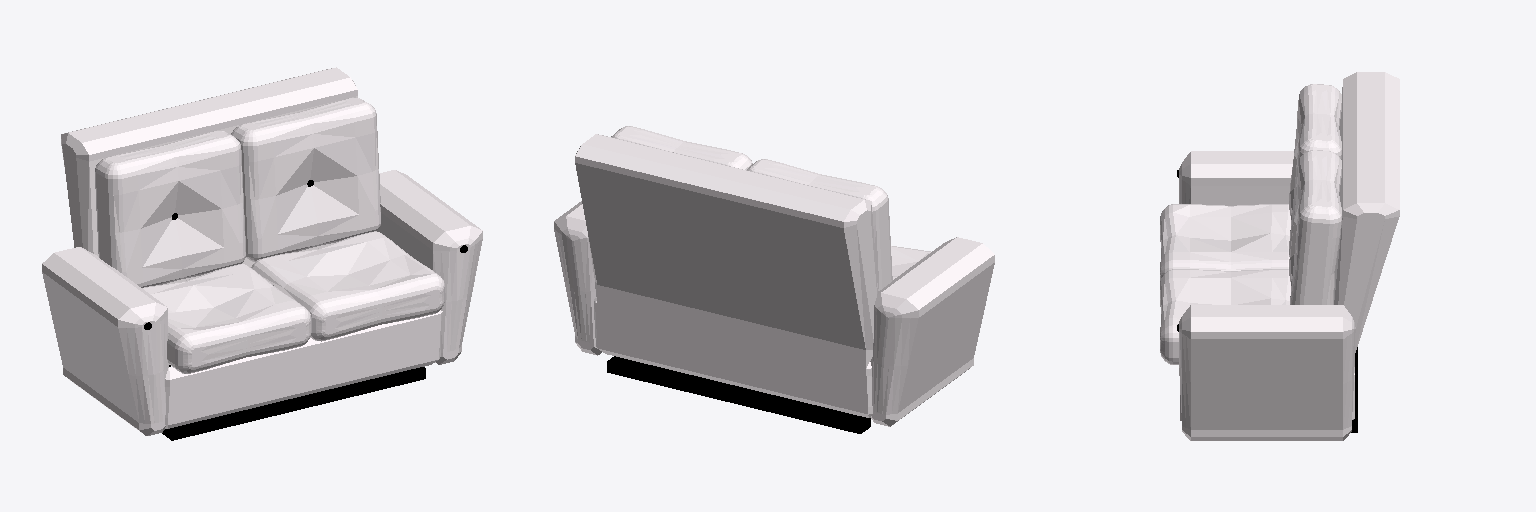
File: Couch_01.obj
3 renders of one model, left to right at view 1: azimuth 30°, elevation 25°; view 2: azimuth 150°, elevation 25°; view 3: azimuth 270°, elevation 25°, orthographic.
Parts seen in each view (by area): view 1: Couch_01.obj; view 2: Couch_01.obj; view 3: Couch_01.obj.
Boxes of the visible parts, x1,y1,x2,y2 form: Couch_01.obj: [42, 67, 482, 440]; Couch_01.obj: [554, 126, 994, 433]; Couch_01.obj: [1160, 72, 1399, 440].
Bounding box in the file's own units: 4.07 × 2.51 × 2.31.